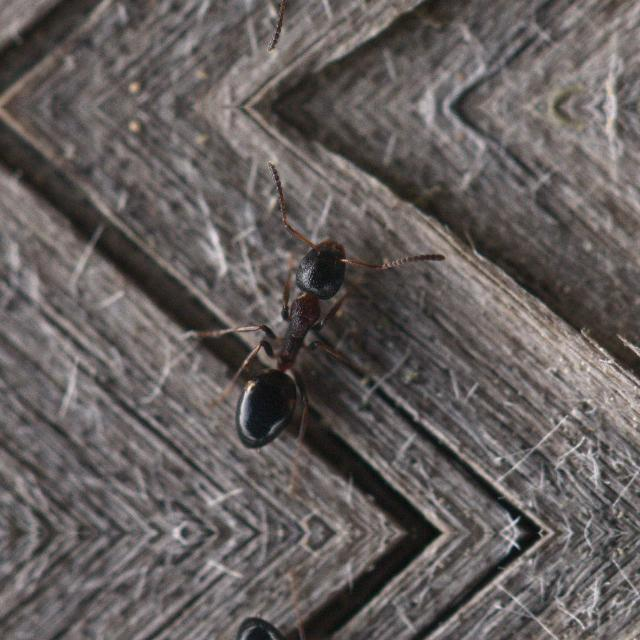Dolichoderus: (178, 204, 400, 463)
